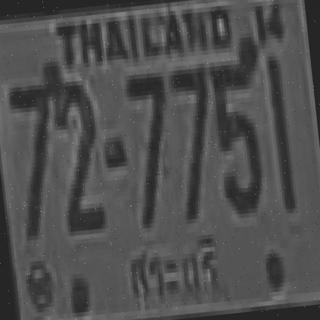N01: (265, 56, 293, 210)
N02: (51, 77, 104, 230)
N05: (207, 50, 268, 211)
N07: (6, 80, 62, 236), (122, 68, 176, 224), (168, 63, 219, 220)
P60: (122, 232, 234, 313)
